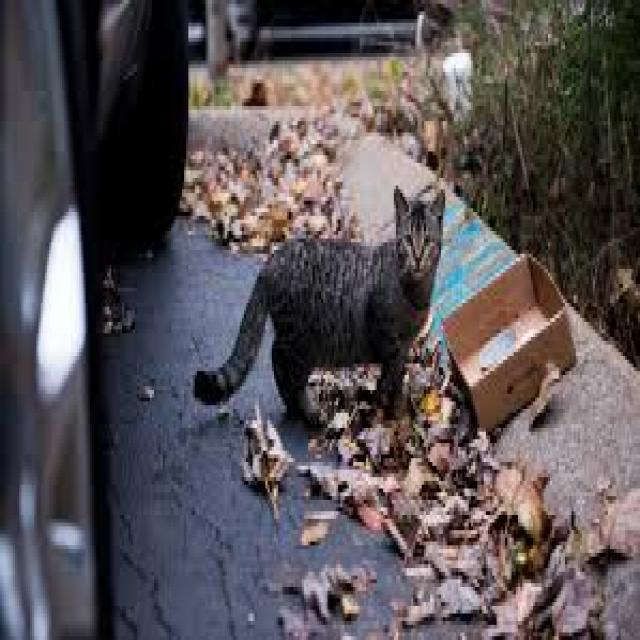cat: (195, 188, 444, 417)
